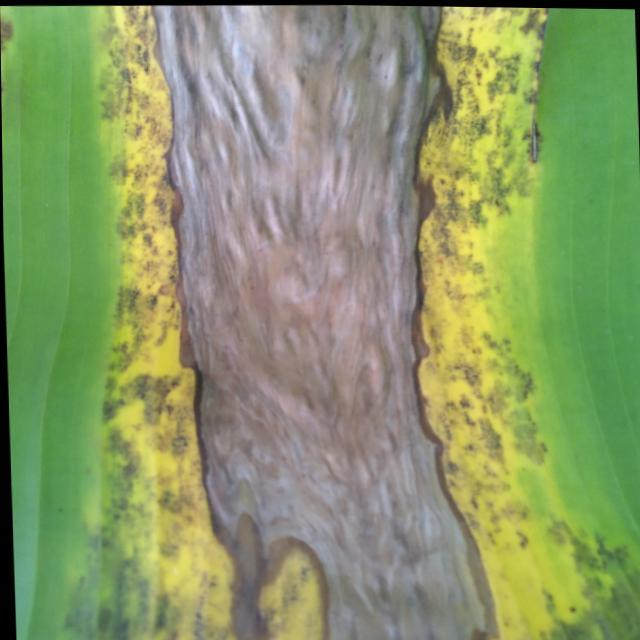Early_rust: (54, 0, 616, 640)
